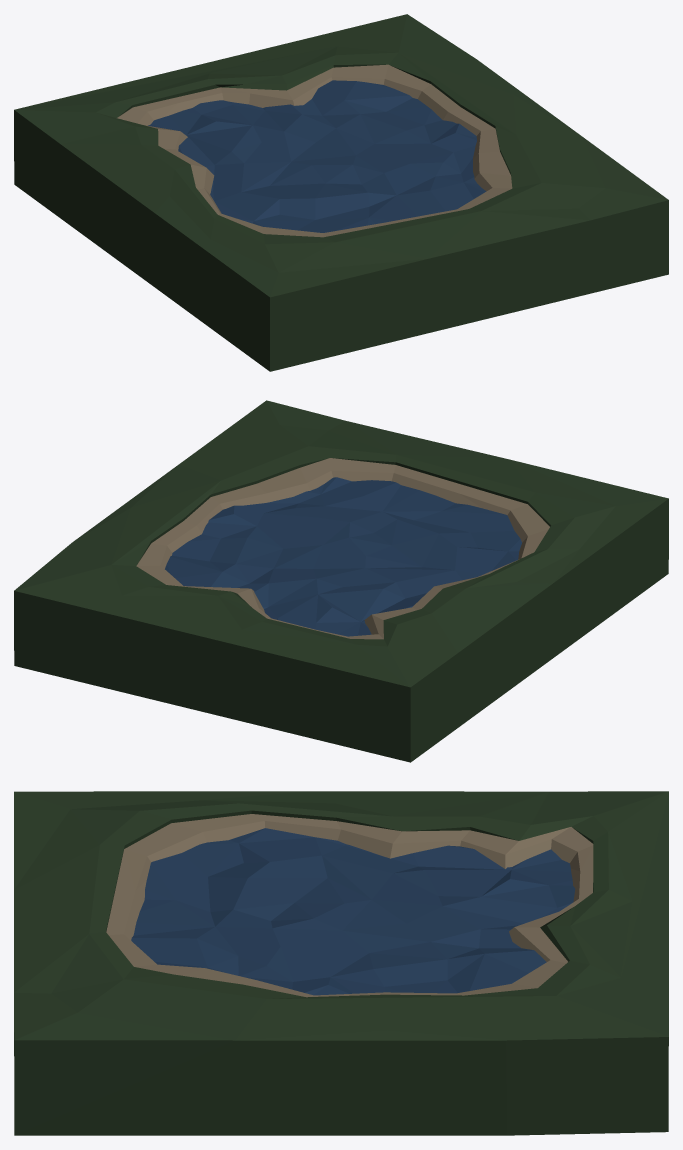
The model's file is Pond_01_A.gltf.
3 views of the same model, one above another, from view 1: azimuth 30°, elevation 25°; view 2: azimuth 150°, elevation 25°; view 3: azimuth 270°, elevation 25° (orthographic). The views are drawn at different scales.
Parts seen in each view (by area): view 1: Pond_01_A, Water_01_A; view 2: Pond_01_A, Water_01_A; view 3: Pond_01_A, Water_01_A.
Boxes of the visible parts, x1,y1,x2,y2 form: Pond_01_A: (14,14,668,371); Water_01_A: (148,80,486,232); Pond_01_A: (14,400,668,762); Water_01_A: (165,477,521,636); Pond_01_A: (14,791,668,1135); Water_01_A: (131,828,575,995).
Bounding box in the file's own units: 3.6 × 0.6997 × 4.
